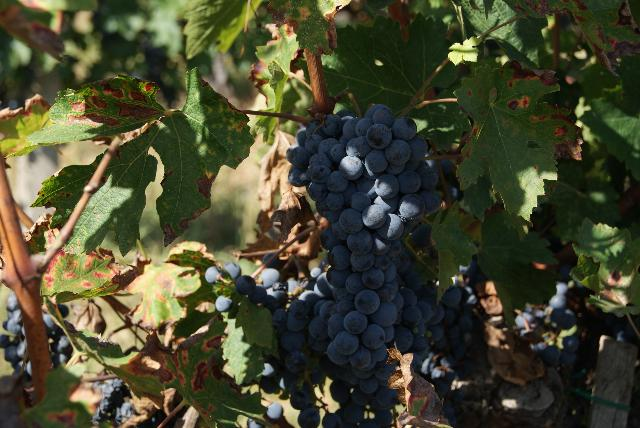grapes: (291, 105, 440, 376)
